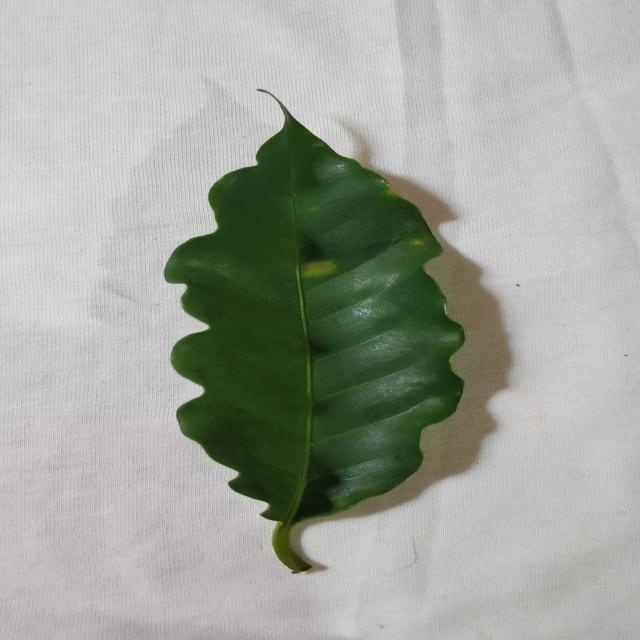Enfermedad-Roya: (162, 104, 469, 576)
